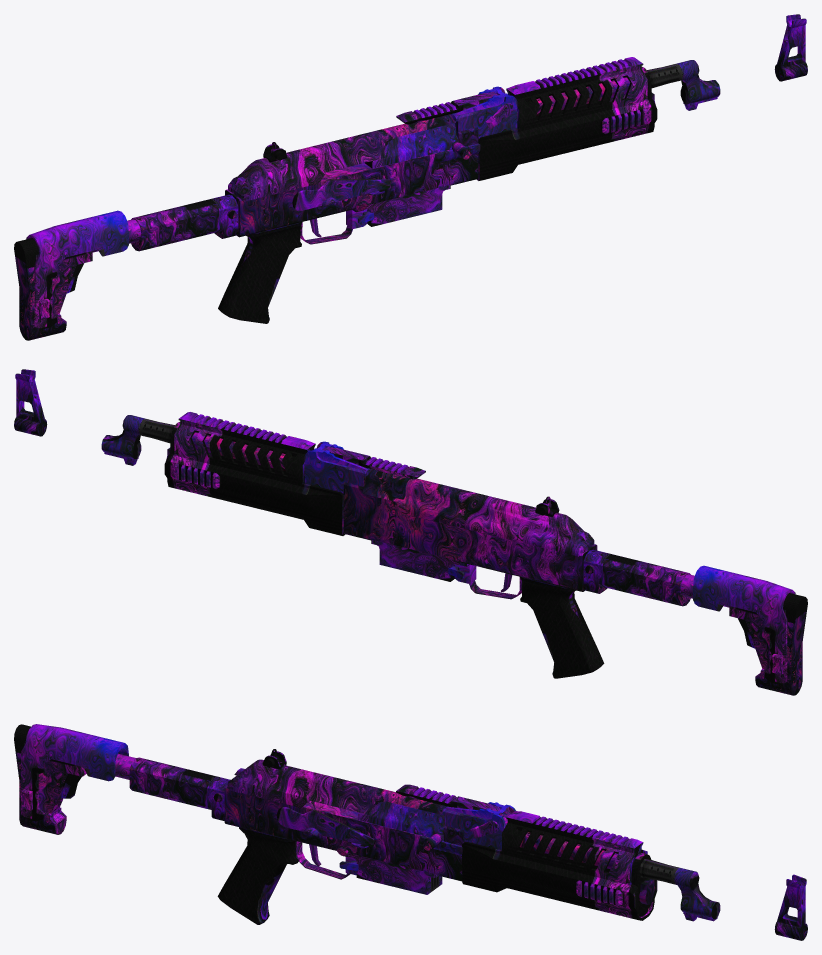
File: assaultriflemk2_ae.glb
3 renders of one model, top to bottom at view 1: azimuth 30°, elevation 25°; view 2: azimuth 150°, elevation 25°; view 3: azimuth 330°, elevation 25°, orthographic.
Parts seen in each view (by area): view 1: Gun_Root; view 2: Gun_Root; view 3: Gun_Root.
Boxes of the visible parts, bbox=[...] form: Gun_Root: bbox=[14, 14, 807, 340]; Gun_Root: bbox=[14, 369, 807, 695]; Gun_Root: bbox=[14, 724, 807, 940].
Bounding box in the file's own units: 0.873 × 0.1873 × 0.0659.
Materials: 2 (2 with a texture image).
